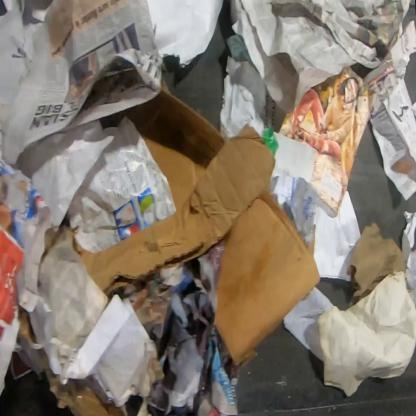cardboard: (73, 75, 276, 296), (212, 189, 322, 365), (349, 223, 406, 308), (43, 368, 127, 415)
